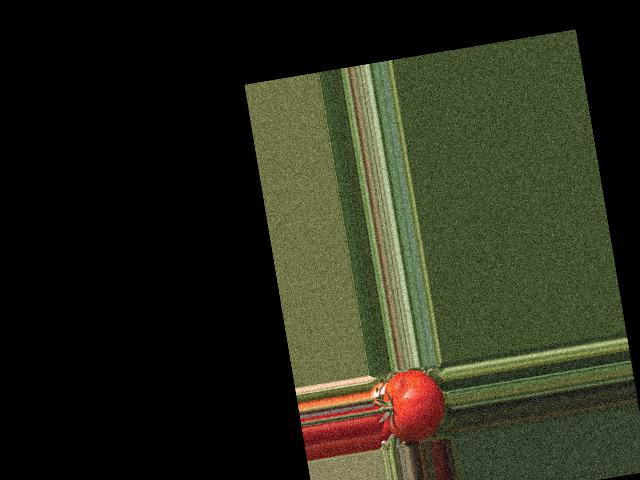tomato: (378, 365, 450, 445)
